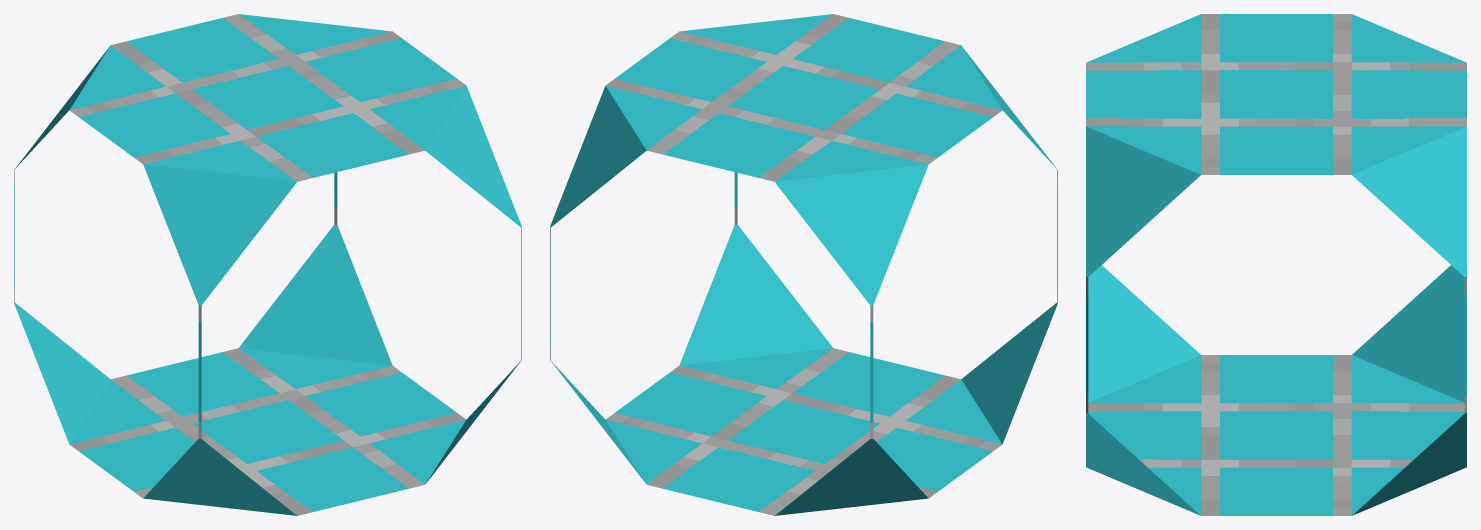
The model's file is viaduct_connected_both_sides.obj.
The picture shows the model from 3 angles, left to right: view 1: azimuth 30°, elevation 25°; view 2: azimuth 150°, elevation 25°; view 3: azimuth 270°, elevation 25°; orthographic projection. The views are drawn at different scales.
Parts seen in each view (by area): view 1: Cube; view 2: Cube; view 3: Cube.
Part boxes in pixels (x1,y1,x2,y2): Cube: [14, 14, 521, 515]; Cube: [550, 14, 1057, 515]; Cube: [1086, 14, 1466, 515].
Size of the model in its own units: 1 by 0.9875 by 1.
